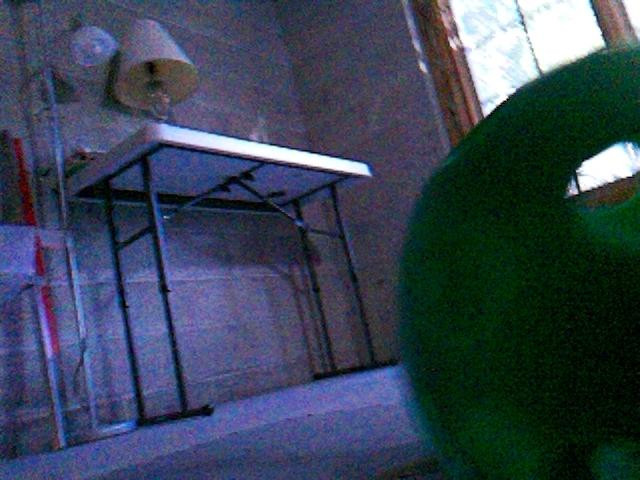Green: (397, 41, 640, 480)
